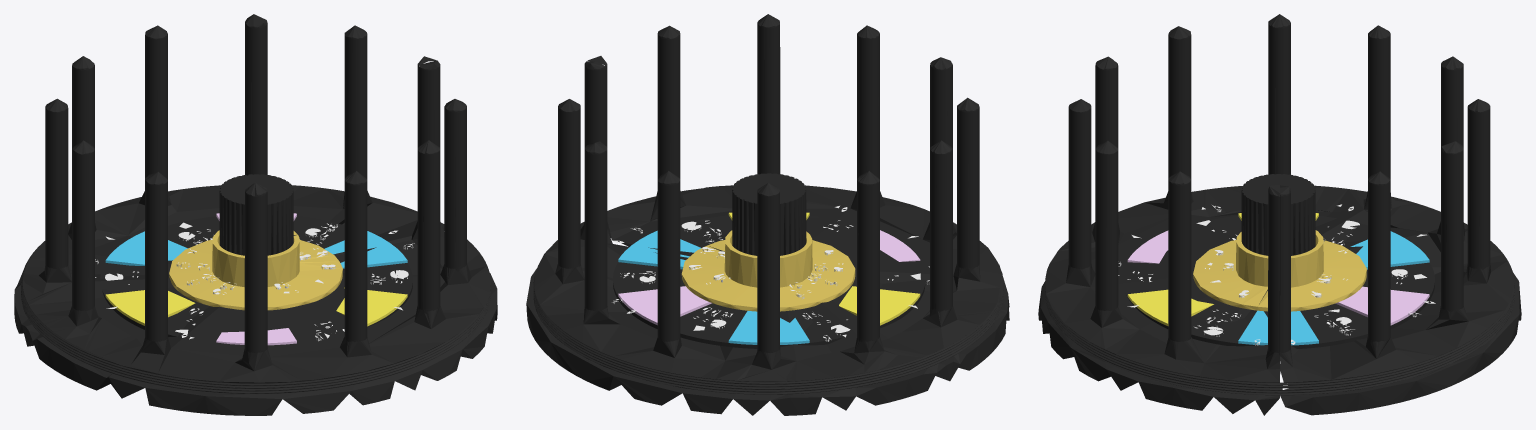
File: musigramma_materials.glb
The picture shows the model from 3 angles, left to right: view 1: azimuth 30°, elevation 25°; view 2: azimuth 150°, elevation 25°; view 3: azimuth 270°, elevation 25°; orthographic projection.
Visible parts, largest first — view 1: Nuovo, Mat.2_1, Mat.2, Mat.3, Mat.1, Mat.4; view 2: Nuovo, Mat.2_1, Mat.3, Mat.4, Mat.1, Mat.2; view 3: Nuovo, Mat.2_1, Mat.3, Mat.4, Mat.1, Mat.2.
Part boxes in pixels (x1,y1,x2,y2): Nuovo: [14, 14, 497, 415]; Mat.2_1: [169, 230, 342, 310]; Mat.2: [105, 287, 407, 326]; Mat.3: [105, 231, 407, 268]; Mat.1: [95, 222, 414, 341]; Mat.4: [216, 213, 296, 345]; Nuovo: [526, 14, 1009, 415]; Mat.2_1: [681, 230, 855, 311]; Mat.3: [618, 230, 809, 344]; Mat.4: [618, 230, 920, 325]; Mat.1: [612, 206, 929, 341]; Mat.2: [728, 212, 920, 325]; Nuovo: [1038, 14, 1521, 415]; Mat.2_1: [1193, 230, 1366, 311]; Mat.3: [1238, 231, 1429, 345]; Mat.4: [1127, 230, 1429, 325]; Mat.1: [1118, 204, 1435, 345]; Mat.2: [1127, 213, 1318, 325].
Bounding box in the file's own units: 17 × 8.38 × 17.
